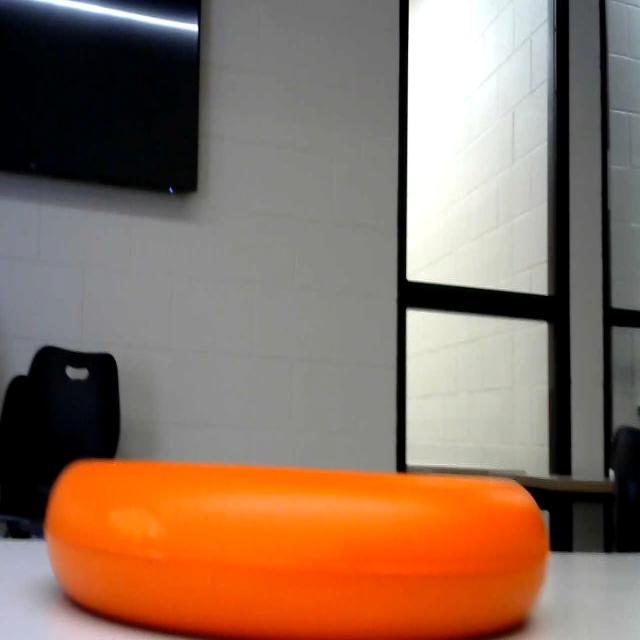note: (34, 437, 552, 640)
